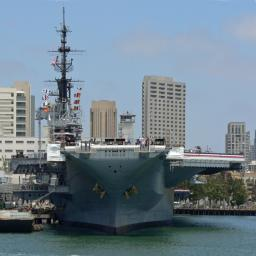Portanaves: (9, 6, 250, 235)
